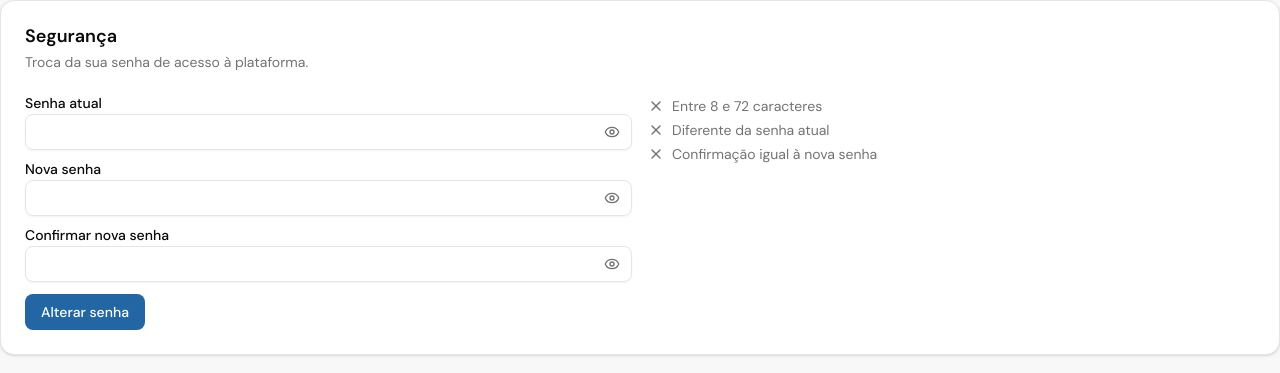
SegurancaSection — ligada (só no teste) › 400 POLITICA → checklist com o que falhou
Type "antiga-123456" into the password field labelled "Senha atual" at [328, 132], box [25,114,632,150]
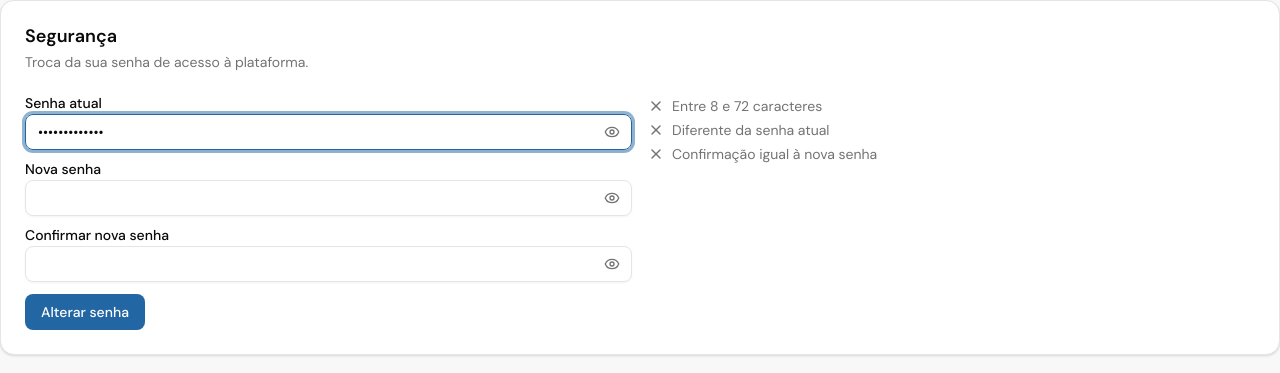
Type "NovaSenha-2026x" into the password field labelled "Nova senha" at [328, 198], box [25,180,632,216]
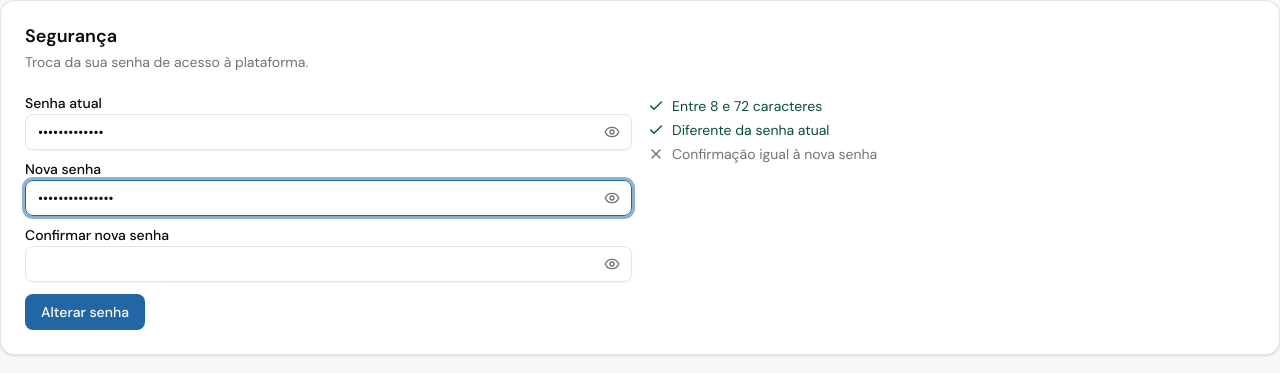
Type "NovaSenha-2026x" into the password field labelled "Confirmar nova senha" at [328, 264], box [25,246,632,282]
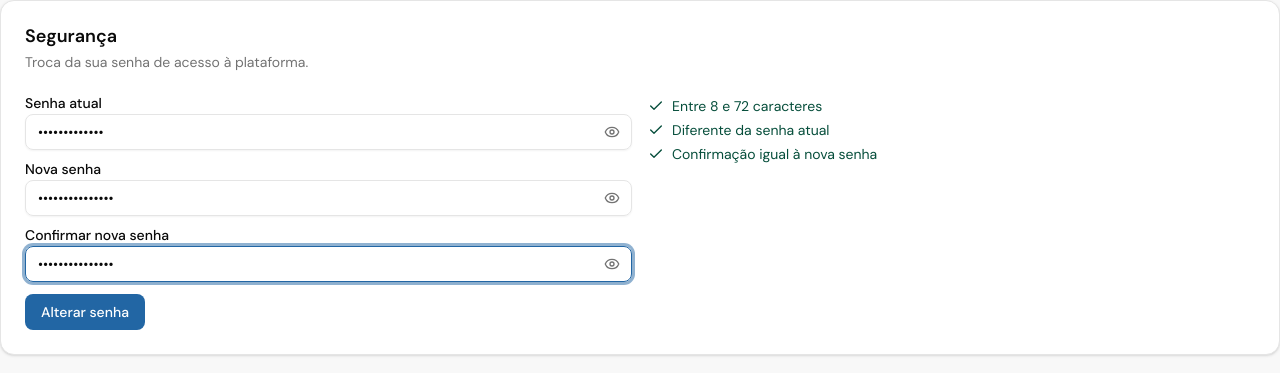
Click the button "Alterar senha" at [85, 312], box [25,294,145,330]
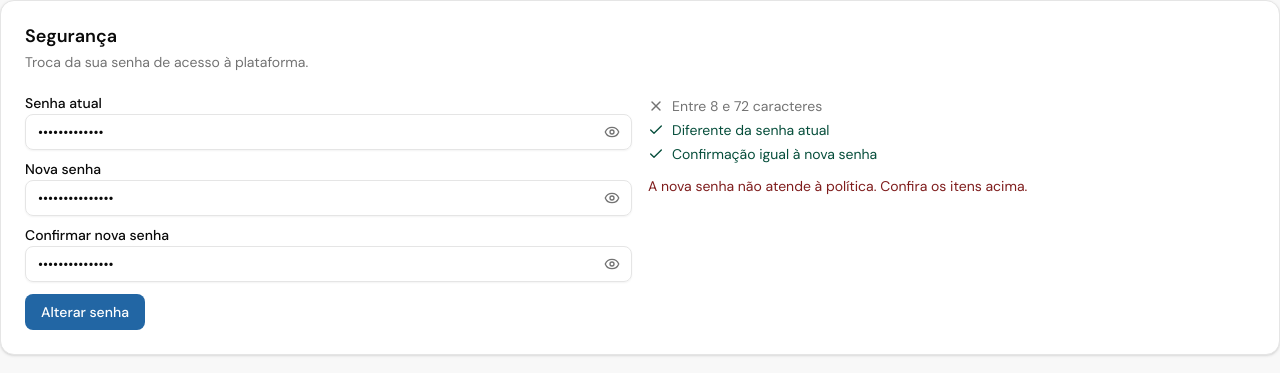
Check: the text "A nova senha não atende à política. Confira os itens acima." is shown, box [648,176,1027,194]
